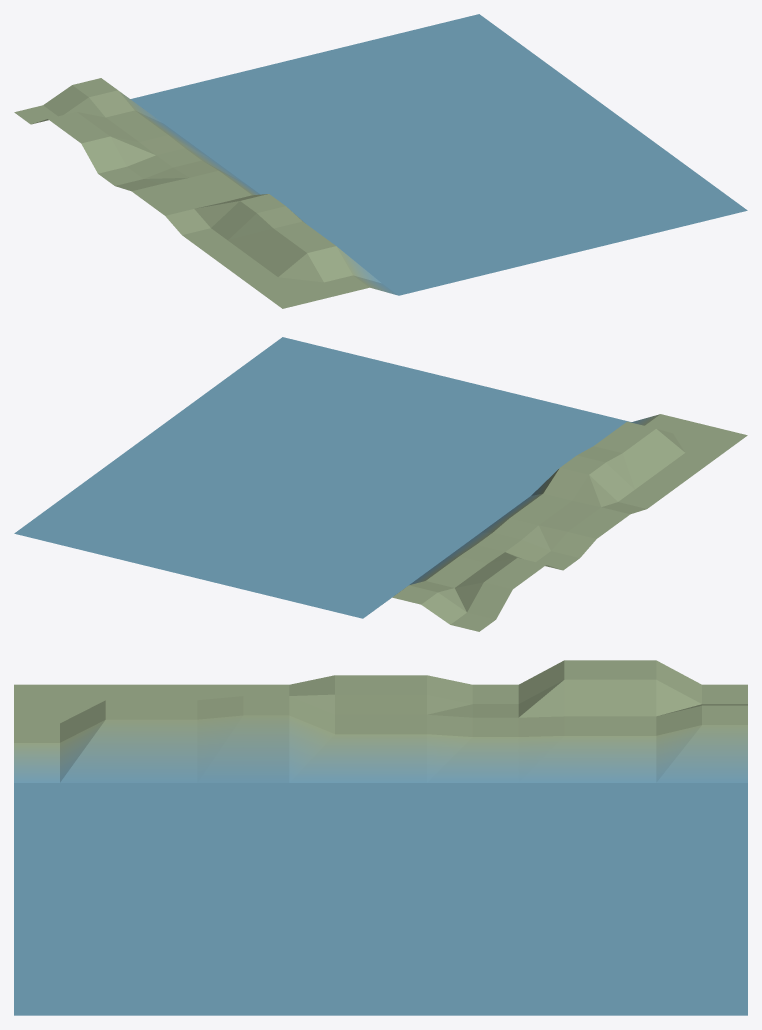
3 renders of one model, top to bottom at view 1: azimuth 30°, elevation 25°; view 2: azimuth 150°, elevation 25°; view 3: azimuth 270°, elevation 25°, orthographic. The views are drawn at different scales.
Size of the model in its own units: 32 by 2.32 by 32.
